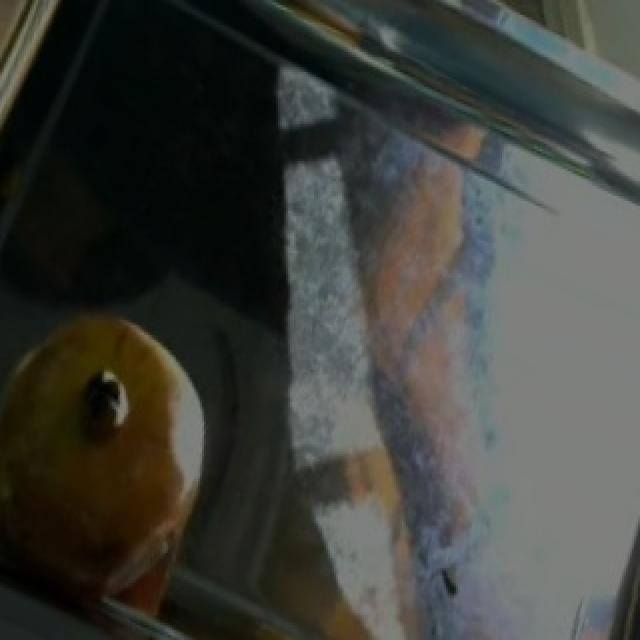fruit: (0, 352, 234, 633)
